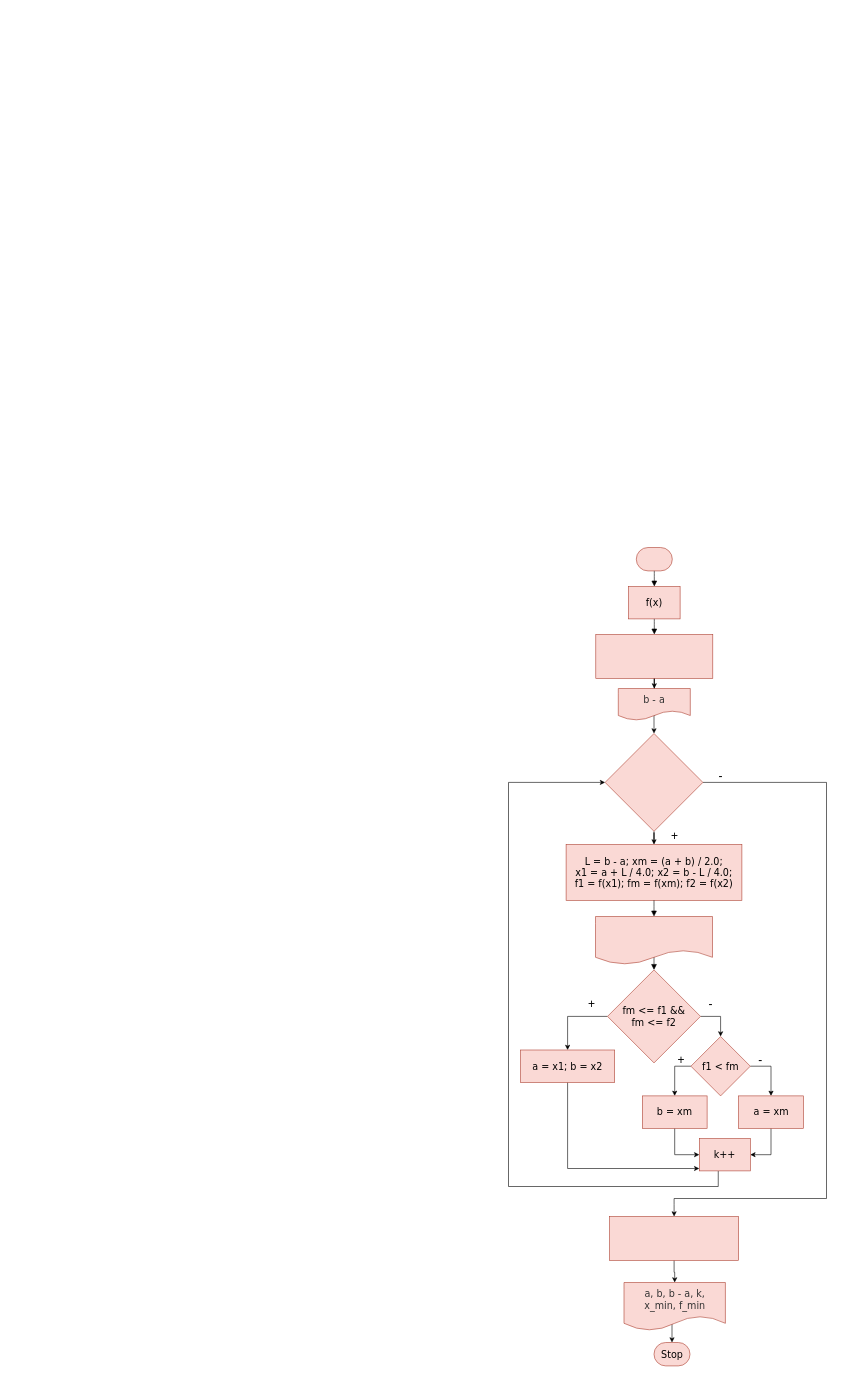
The diagram is 842 pixels wide and 1376 high, and some of its shapes have lost their labels. The centre of each missing label's shape, as x and y in pixels:
a = 0.0; b = 1.0; sigma = 0.05; k = 0: point (654, 656)
b - a > sigma: point (653, 782)
k + 1, x1, xm, x2, f1, fm, f2, L: point (653, 940)
Start: point (654, 559)
x_min = (a + b) / 2.0; f_min = f(x_min): point (674, 1238)
